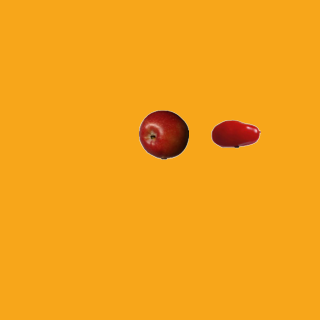Apple Braeburn: (138, 109, 188, 159)
Tomato 2: (210, 108, 260, 158)
